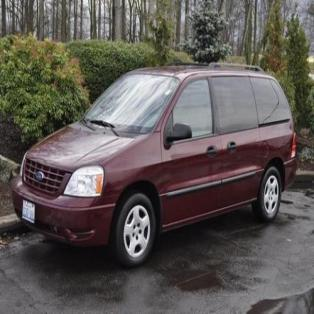Auto: (9, 66, 301, 274)
